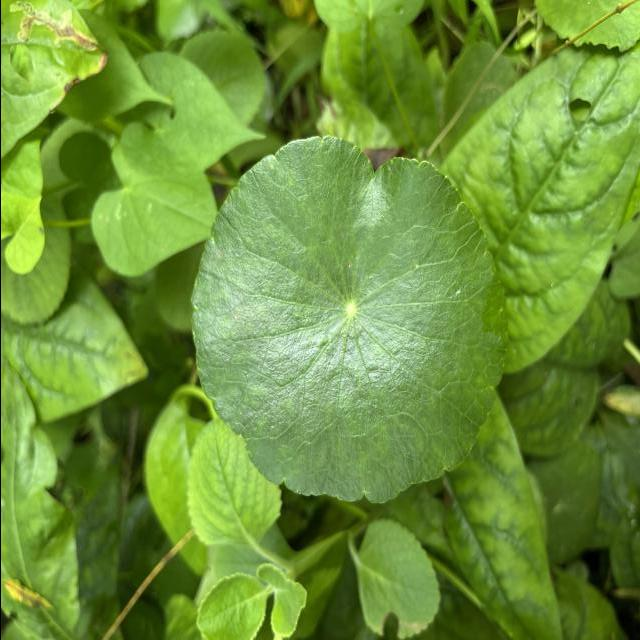Bacopa monnieri: (184, 130, 512, 509)
